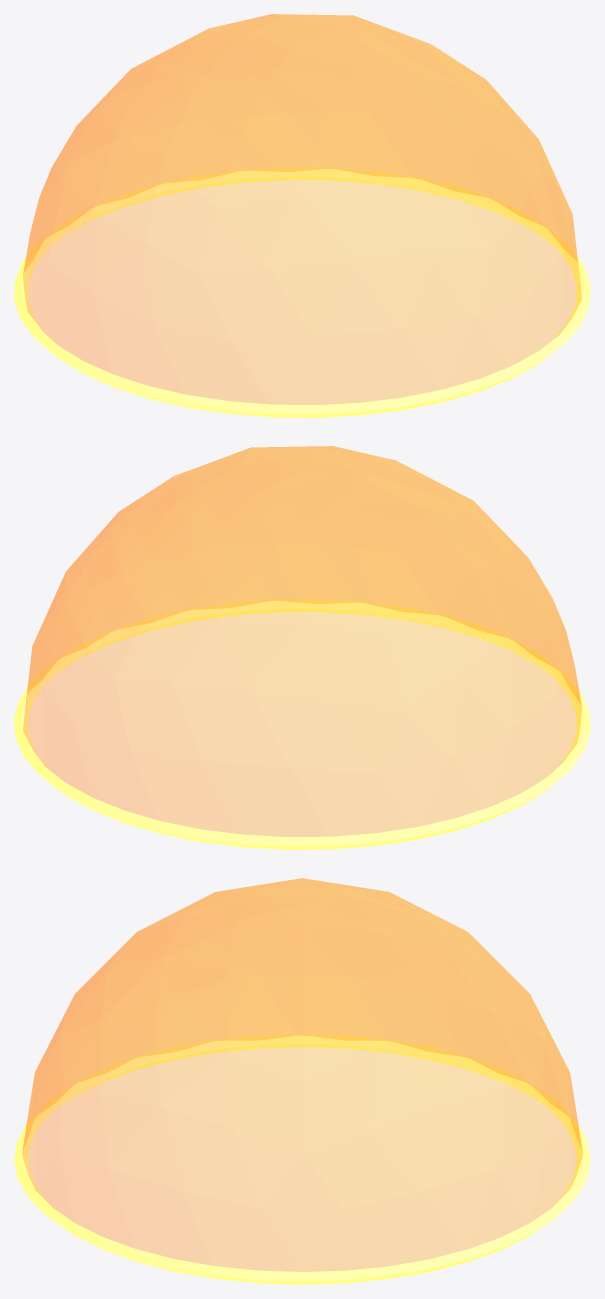
The model's file is fx_shield_x.glb.
The picture shows the model from 3 angles, top to bottom: view 1: azimuth 30°, elevation 25°; view 2: azimuth 150°, elevation 25°; view 3: azimuth 270°, elevation 25°; orthographic projection.
Visible parts, largest first — view 1: fx_shield_x; view 2: fx_shield_x; view 3: fx_shield_x.
Boxes of the visible parts, bbox=[...] form: fx_shield_x: bbox=[14, 14, 590, 417]; fx_shield_x: bbox=[14, 446, 590, 849]; fx_shield_x: bbox=[14, 878, 590, 1284].
Size of the model in its own units: 2.05 by 1.03 by 2.05.
